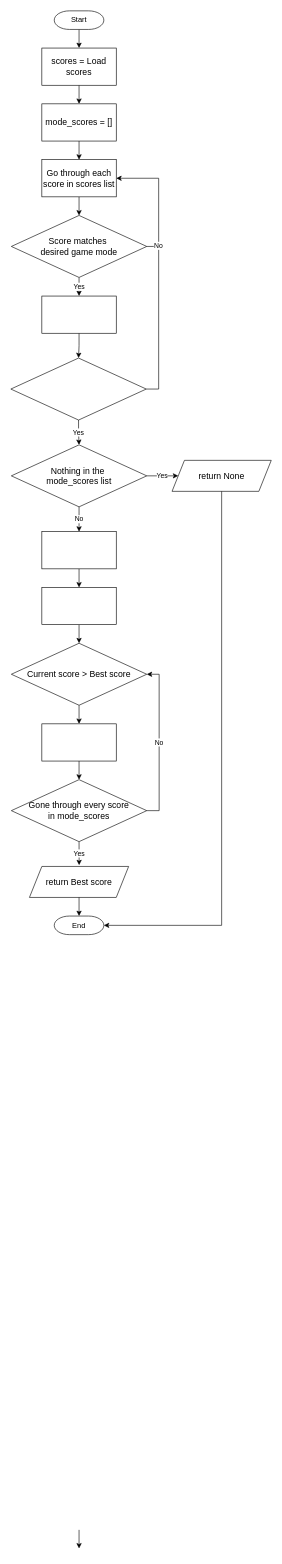
Image size: 282x1564. Some labels were removed from this diagram. The centre of each missing label's shape, as x and y in pixels:
"Append score to mode_scores list" goes at point (78, 314).
"Best score = Current score" goes at point (78, 742).
"Best score = first score in list" goes at point (78, 550).
"Go through the rest of the scores in mode_scores" goes at point (78, 606).
"Gone thorugh every score in scores list" goes at point (78, 388).
